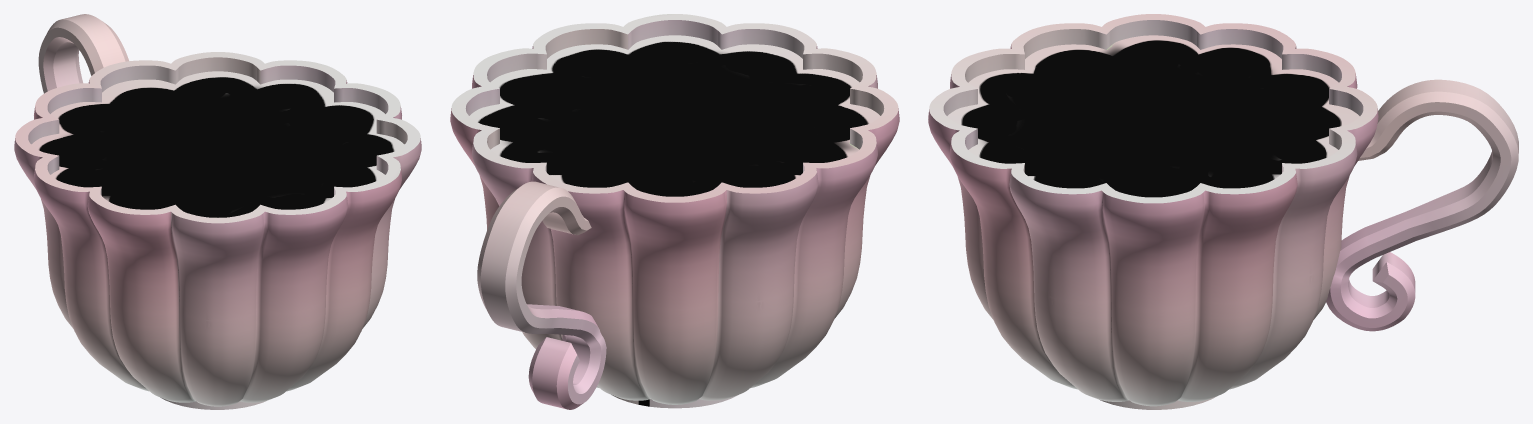
Rendered from cup1 1.fbx.
3 views of the same model, side by side, from view 1: azimuth 30°, elevation 25°; view 2: azimuth 150°, elevation 25°; view 3: azimuth 270°, elevation 25° (orthographic). The views are drawn at different scales.
Parts seen in each view (by area): view 1: Cylinder012; view 2: Cylinder012; view 3: Cylinder012.
Part boxes in pixels (bbox=[...]): Cylinder012: bbox=[14, 14, 421, 409]; Cylinder012: bbox=[450, 14, 899, 409]; Cylinder012: bbox=[928, 14, 1518, 409].
Size of the model in its own units: 153 by 109 by 201.
1 material, 1 textured.
